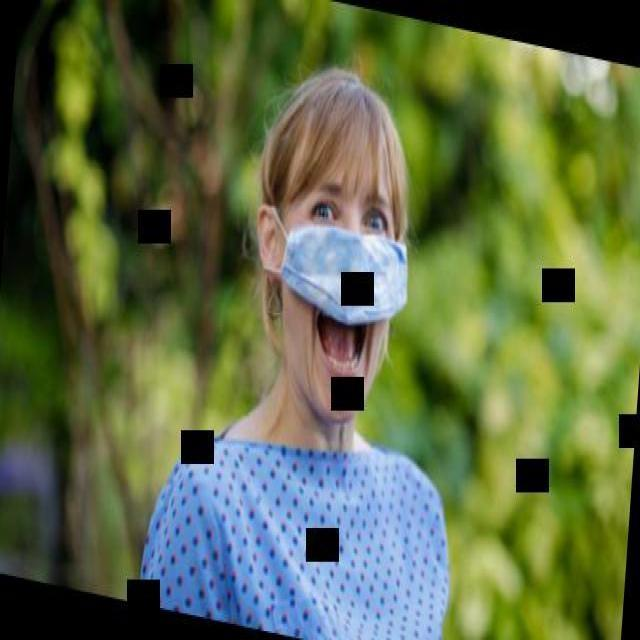hairnet: (287, 238, 405, 420)
